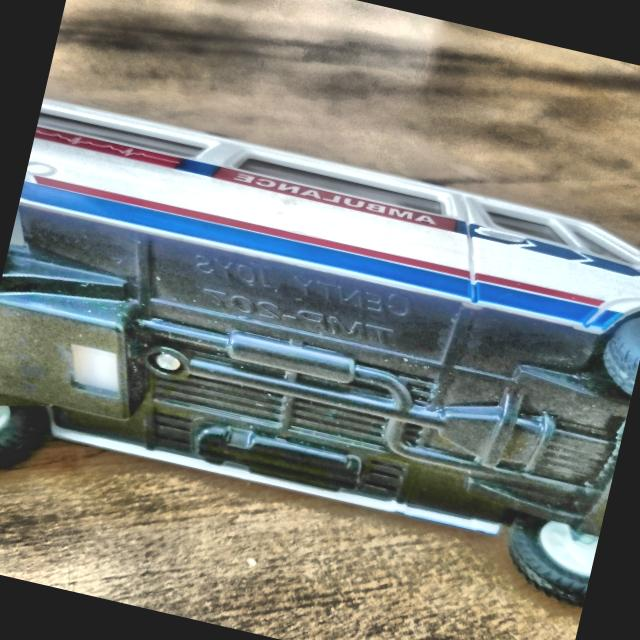Ambulance: (0, 77, 640, 632)
